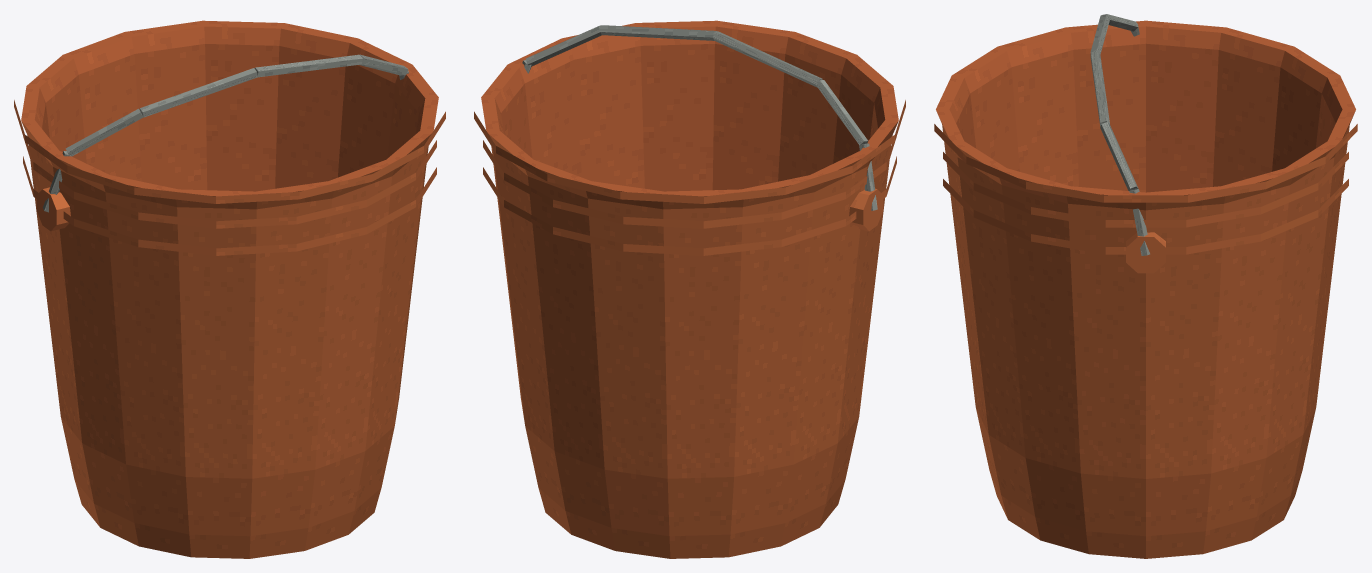
Rendered from bucket_5gal.glb.
3 views of the same model, side by side, from view 1: azimuth 30°, elevation 25°; view 2: azimuth 150°, elevation 25°; view 3: azimuth 270°, elevation 25° (orthographic).
Visible parts, largest first — view 1: block_tapered bucket body, block_raised rolled rim (×3), block_arched carry handle 2, block_arched carry handle 3, block_handle lug, block_arched carry handle 1; view 2: block_tapered bucket body, block_raised rolled rim (×3), block_arched carry handle 2, block_arched carry handle 3, block_handle lug, block_arched carry handle 4, block_arched carry handle 1; view 3: block_tapered bucket body, block_raised rolled rim (×3), block_handle lug, block_arched carry handle 4, block_arched carry handle 3.
Boxes of the visible parts, bbox=[...] form: block_tapered bucket body: bbox=[21, 20, 438, 558]; block_raised rolled rim (×3): bbox=[14, 100, 445, 255]; block_arched carry handle 2: bbox=[139, 68, 257, 117]; block_arched carry handle 3: bbox=[254, 54, 362, 77]; block_handle lug: bbox=[36, 187, 70, 231]; block_arched carry handle 1: bbox=[65, 108, 143, 156]; block_tapered bucket body: bbox=[481, 20, 898, 558]; block_raised rolled rim (×3): bbox=[474, 100, 905, 255]; block_arched carry handle 2: bbox=[712, 31, 822, 87]; block_arched carry handle 3: bbox=[599, 25, 716, 40]; block_handle lug: bbox=[849, 188, 883, 231]; block_arched carry handle 4: bbox=[526, 25, 601, 66]; block_arched carry handle 1: bbox=[816, 80, 868, 145]; block_tapered bucket body: bbox=[936, 20, 1355, 558]; block_raised rolled rim (×3): bbox=[934, 124, 1357, 254]; block_handle lug: bbox=[1126, 232, 1165, 273]; block_arched carry handle 4: bbox=[1100, 122, 1138, 190]; block_arched carry handle 3: bbox=[1090, 50, 1109, 126].
Size of the model in its own units: 0.3239 by 0.37 by 0.3187.
Materials: 1 (1 with a texture image).
